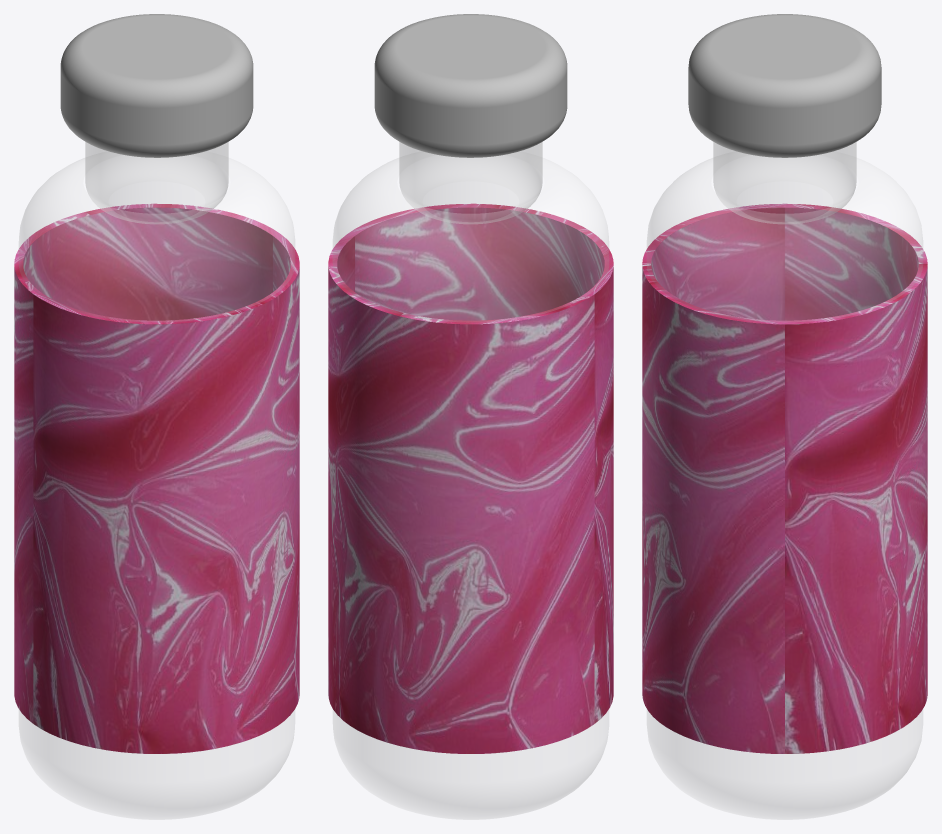
The model's file is asset.glb.
The picture shows the model from 3 angles, left to right: view 1: azimuth 30°, elevation 25°; view 2: azimuth 150°, elevation 25°; view 3: azimuth 270°, elevation 25°; orthographic projection.
Visible parts, largest first — view 1: Tube, Cylinder - baked, Cylinder, Cylinder 1 - baked; view 2: Tube, Cylinder - baked, Cylinder, Cylinder 1 - baked; view 3: Tube, Cylinder - baked, Cylinder, Cylinder 1 - baked.
Part boxes in pixels (<box>): Tube: <box>14,203,299,753</box>; Cylinder - baked: <box>19,158,294,819</box>; Cylinder: <box>60,14,253,157</box>; Cylinder 1 - baked: <box>85,142,228,223</box>; Tube: <box>328,203,613,753</box>; Cylinder - baked: <box>333,158,608,819</box>; Cylinder: <box>374,14,567,157</box>; Cylinder 1 - baked: <box>399,142,542,223</box>; Tube: <box>642,203,927,753</box>; Cylinder - baked: <box>647,158,922,819</box>; Cylinder: <box>688,14,881,157</box>; Cylinder 1 - baked: <box>713,142,856,223</box>.
Size of the model in its own units: 0.1032 by 0.2933 by 0.1032.
Materials: 4 (1 with a texture image).
